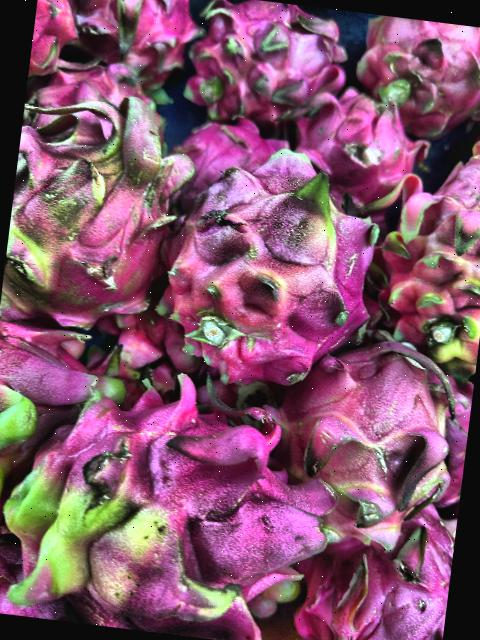buah-naga-belum-matang: (0, 367, 340, 640), (170, 126, 384, 392), (0, 78, 185, 326), (278, 336, 456, 548), (373, 216, 480, 379)
buah-naga-matang: (190, 0, 351, 130), (304, 507, 457, 640), (290, 79, 426, 209), (0, 315, 90, 502), (347, 12, 480, 125), (55, 0, 207, 84), (403, 135, 480, 251)
